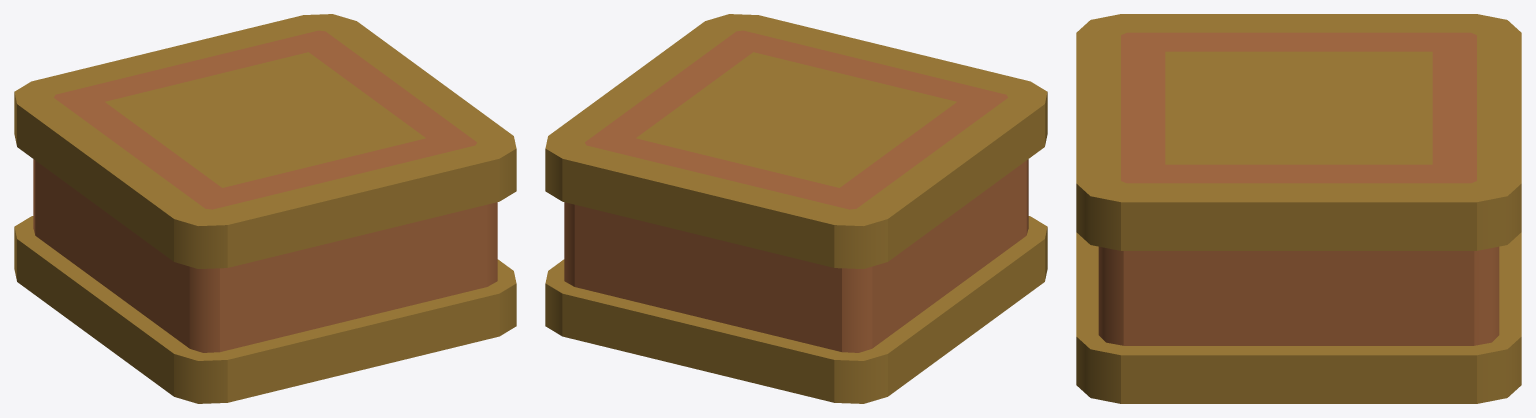
The model's file is blockMovingLarge.glb.
The picture shows the model from 3 angles, left to right: view 1: azimuth 30°, elevation 25°; view 2: azimuth 150°, elevation 25°; view 3: azimuth 270°, elevation 25°; orthographic projection. The views are drawn at different scales.
Parts seen in each view (by area): view 1: blockMovingLarge; view 2: blockMovingLarge; view 3: blockMovingLarge.
Part boxes in pixels (x1,y1,x2,y2): blockMovingLarge: [14, 14, 516, 403]; blockMovingLarge: [545, 14, 1047, 403]; blockMovingLarge: [1076, 14, 1521, 403].
Size of the model in its own units: 1 by 0.5 by 1.
